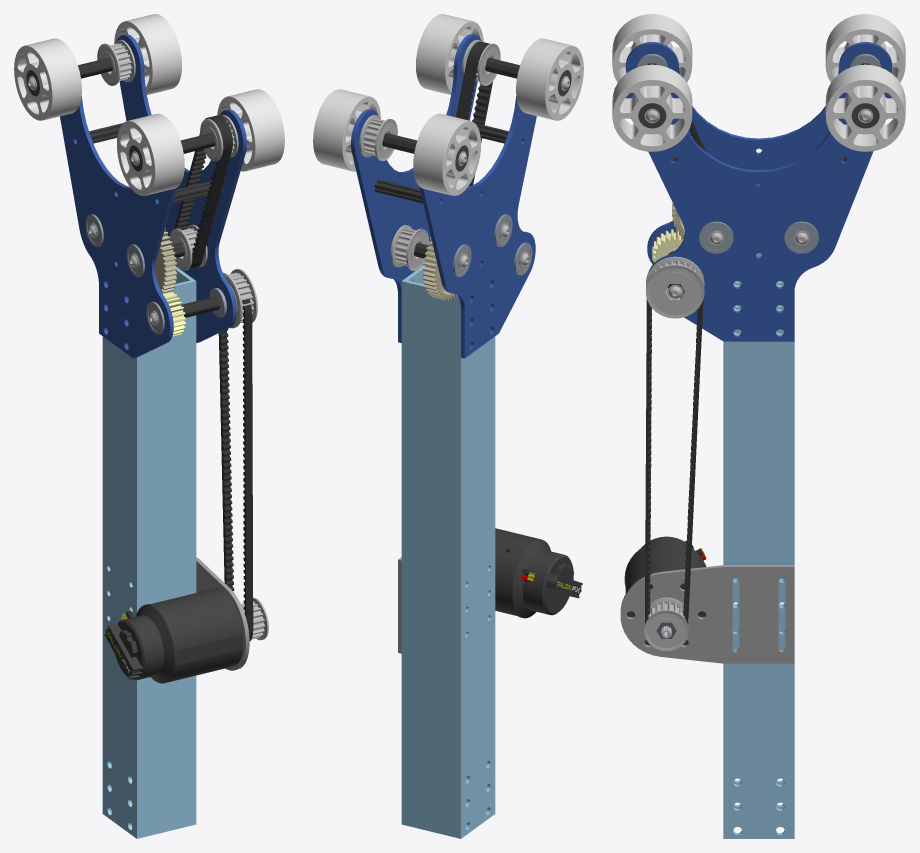
3 renders of one model, left to right at view 1: azimuth 30°, elevation 25°; view 2: azimuth 150°, elevation 25°; view 3: azimuth 270°, elevation 25°, orthographic. The views are drawn at different scales.
Parts seen in each view (by area): view 1: Part 3, am-3950 2.25N OverMolded 375Hex Compliant Wheel V6 (×4), Part 6, Falcon 500 Brushless Motor (V3), Part 5, 124T 5M Belt, 18t 9mm Wide 1/2" Hex Bore Double Flange 5mm HTD Aluminum Pu (×3), 65T 5M Belt, Shaft (×4), Part 4, 24t 9mm Wide 1/2" Hex Bore Double Flange 5mm HTD Aluminum Pu, 48t 20dp Aluminum 1/2" Hex Bore Pocketed Gear (WCP-0137) (+2 smaller); view 2: Part 3, am-3950 2.25N OverMolded 375Hex Compliant Wheel V6 (×4), Part 6, Part 5, Falcon 500 Brushless Motor (V3), 18t 9mm Wide 1/2" Hex Bore Double Flange 5mm HTD Aluminum Pu (×3), Shaft (×3), 65T 5M Belt, 48t 20dp Aluminum 1/2" Hex Bore Pocketed Gear (WCP-0137); view 3: Part 3, Part 5, am-3950 2.25N OverMolded 375Hex Compliant Wheel V6 (×4), Part 4, Part 6, 124T 5M Belt, 24t 9mm Wide 1/2" Hex Bore Double Flange 5mm HTD Aluminum Pu, Falcon 500 Brushless Motor (V3), 18t 15mm Wide 1/2" Hex Bore Double Flange 5mm HTD Aluminum P, .375" Round ID .875" OD Flanged Bearing (217-2733) (×2), 24t 20dp Aluminum 3/8" Hex Bore Gear (217-2703).
Boxes of the visible parts, x1,y1,x2,y2 form: Part 3: (102, 266, 196, 838); am-3950 2.25N OverMolded 375Hex Compliant Wheel V6 (×4): (14, 14, 284, 195); Part 6: (60, 96, 182, 358); Falcon 500 Brushless Motor (V3): (104, 588, 243, 683); Part 5: (116, 34, 246, 342); 124T 5M Belt: (218, 299, 253, 641); 18t 9mm Wide 1/2" Hex Bore Double Flange 5mm HTD Aluminum Pu (×3): (97, 39, 238, 270); 65T 5M Belt: (174, 115, 232, 268); Shaft (×4): (28, 57, 223, 325); Part 4: (196, 557, 249, 670); 24t 9mm Wide 1/2" Hex Bore Double Flange 5mm HTD Aluminum Pu: (223, 269, 257, 328); 48t 20dp Aluminum 1/2" Hex Bore Pocketed Gear (WCP-0137): (155, 228, 177, 293); Part 3: (401, 265, 495, 838); am-3950 2.25N OverMolded 375Hex Compliant Wheel V6 (×4): (313, 14, 583, 195); Part 6: (419, 96, 536, 358); Part 5: (351, 34, 481, 342); Falcon 500 Brushless Motor (V3): (495, 528, 582, 618); 18t 9mm Wide 1/2" Hex Bore Double Flange 5mm HTD Aluminum Pu (×3): (359, 39, 500, 270); Shaft (×3): (374, 57, 569, 203); 65T 5M Belt: (456, 41, 492, 186); 48t 20dp Aluminum 1/2" Hex Bore Pocketed Gear (WCP-0137): (423, 237, 457, 300); Part 3: (723, 253, 794, 838); Part 5: (625, 93, 892, 341); am-3950 2.25N OverMolded 375Hex Compliant Wheel V6 (×4): (612, 14, 905, 151); Part 4: (620, 565, 794, 663); Part 6: (625, 42, 892, 305); 124T 5M Belt: (645, 298, 703, 623); 24t 9mm Wide 1/2" Hex Bore Double Flange 5mm HTD Aluminum Pu: (645, 256, 704, 318); Falcon 500 Brushless Motor (V3): (624, 536, 706, 645); 18t 15mm Wide 1/2" Hex Bore Double Flange 5mm HTD Aluminum P: (644, 597, 688, 650); .375" Round ID .875" OD Flanged Bearing (217-2733) (×2): (699, 221, 818, 253); 24t 20dp Aluminum 3/8" Hex Bore Gear (217-2703): (652, 229, 682, 262).
Bounding box in the file's own units: 0.1252 × 0.6128 × 0.2095.
